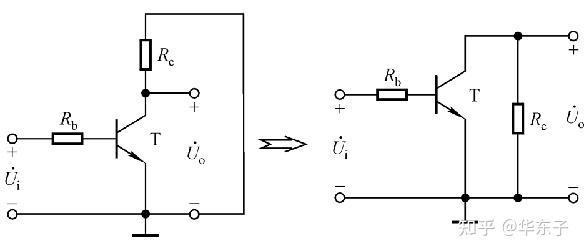res1: (136, 34, 155, 74), (374, 85, 410, 104), (49, 130, 87, 147), (510, 98, 527, 136)
triode: (431, 66, 470, 125), (113, 111, 150, 166)
